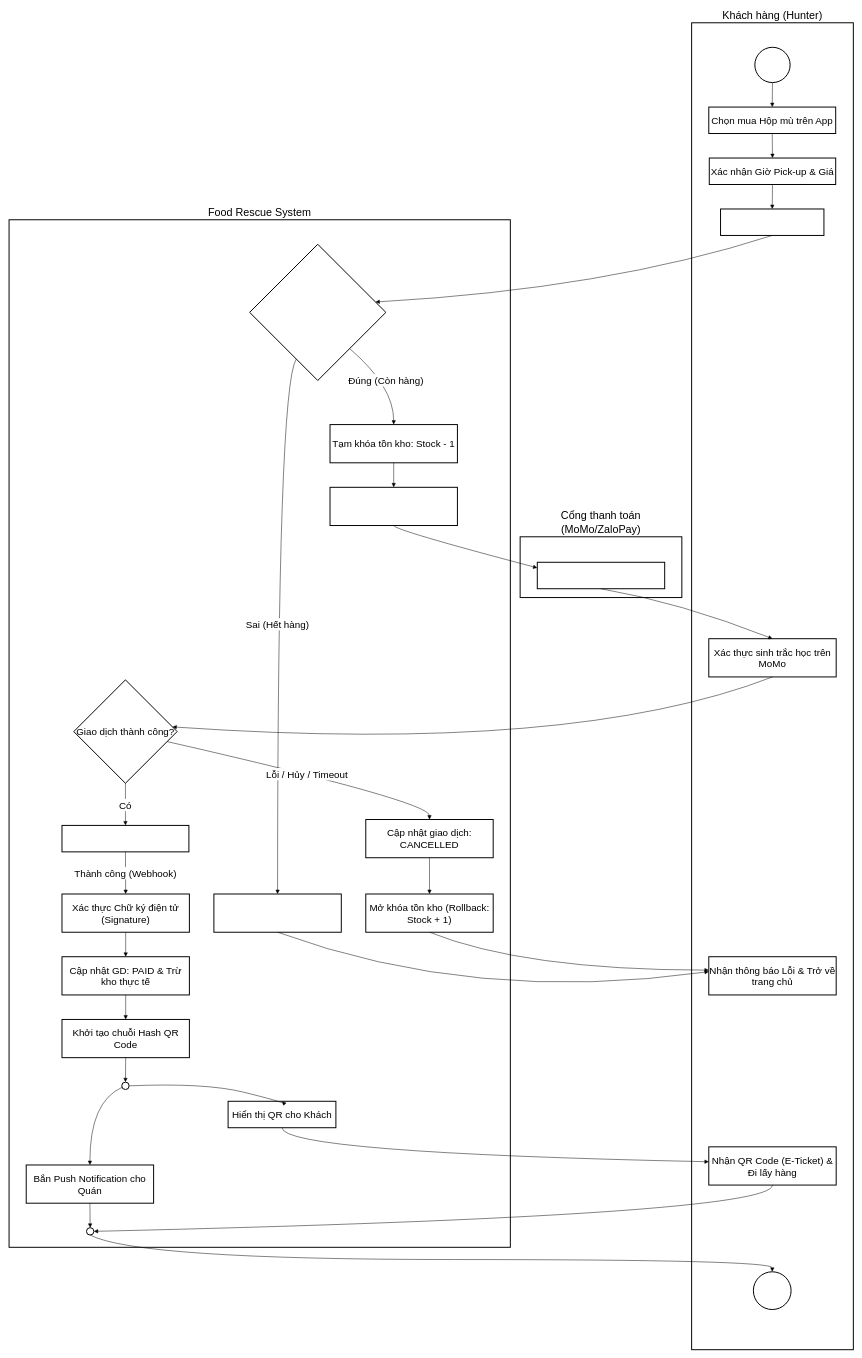
The diagram is 862 pixels wide and 1358 high, and some of its shapes have lost their labels. The centre of each missing label's shape, as x and y in pixels:
"Bấm nút 'Thanh toán'" belongs at pixel 772 222.
"Bắt đầu" belongs at pixel 772 65.
"Hiển thị màn hình Checkout" belongs at pixel 601 575.
"Hiển thị thông báo: Đã hết hàng" belongs at pixel 277 912.
"Khởi tạo giao dịch (Trạng thái: PENDING)" belongs at pixel 393 506.
"Kiểm tra tồn kho (Stock > 0?)" belongs at pixel 317 312.
"Kết thúc" belongs at pixel 772 1290.
"Trừ tiền KH & Gửi Webhook" belongs at pixel 125 838.
